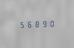eight: (32, 20, 38, 27)
five: (18, 20, 24, 28)
nine: (39, 19, 45, 27)
six: (25, 20, 31, 28)
zero: (46, 19, 52, 27)
